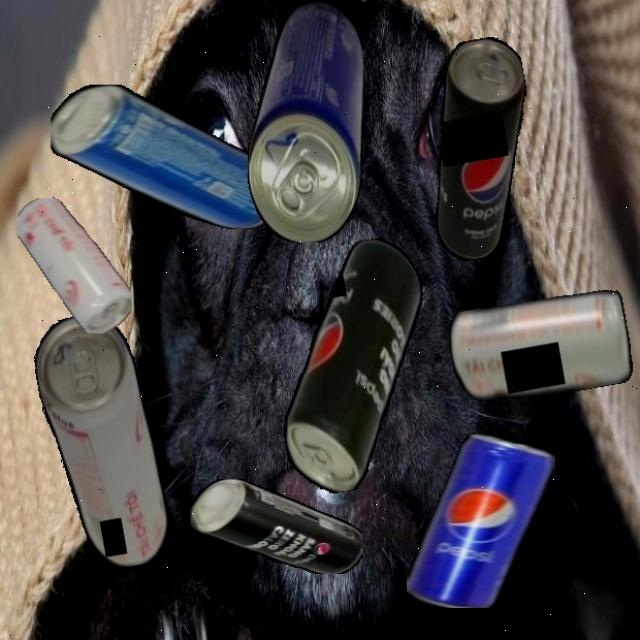debris: (254, 232, 454, 500), (28, 308, 175, 576), (49, 85, 286, 229), (407, 33, 553, 264), (247, 0, 363, 243), (407, 434, 555, 608), (445, 284, 636, 411), (181, 479, 362, 574), (17, 197, 132, 334)
